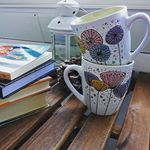cups: (69, 4, 150, 64), (62, 56, 137, 119)
